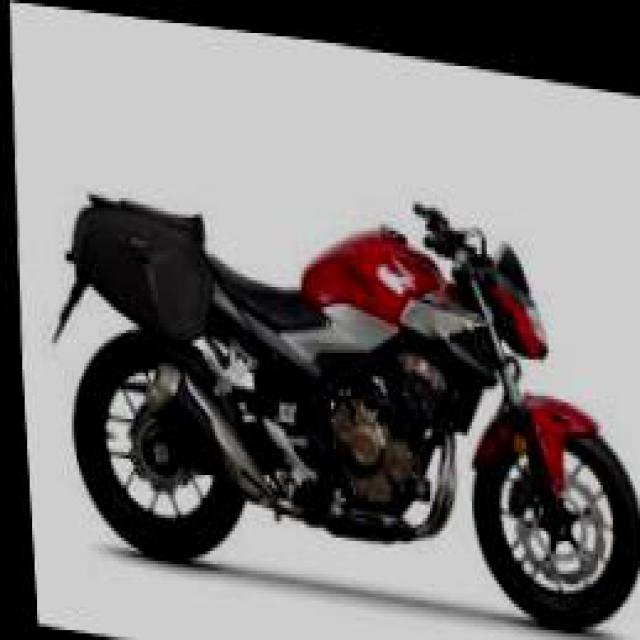CB500F: (45, 148, 638, 627)
